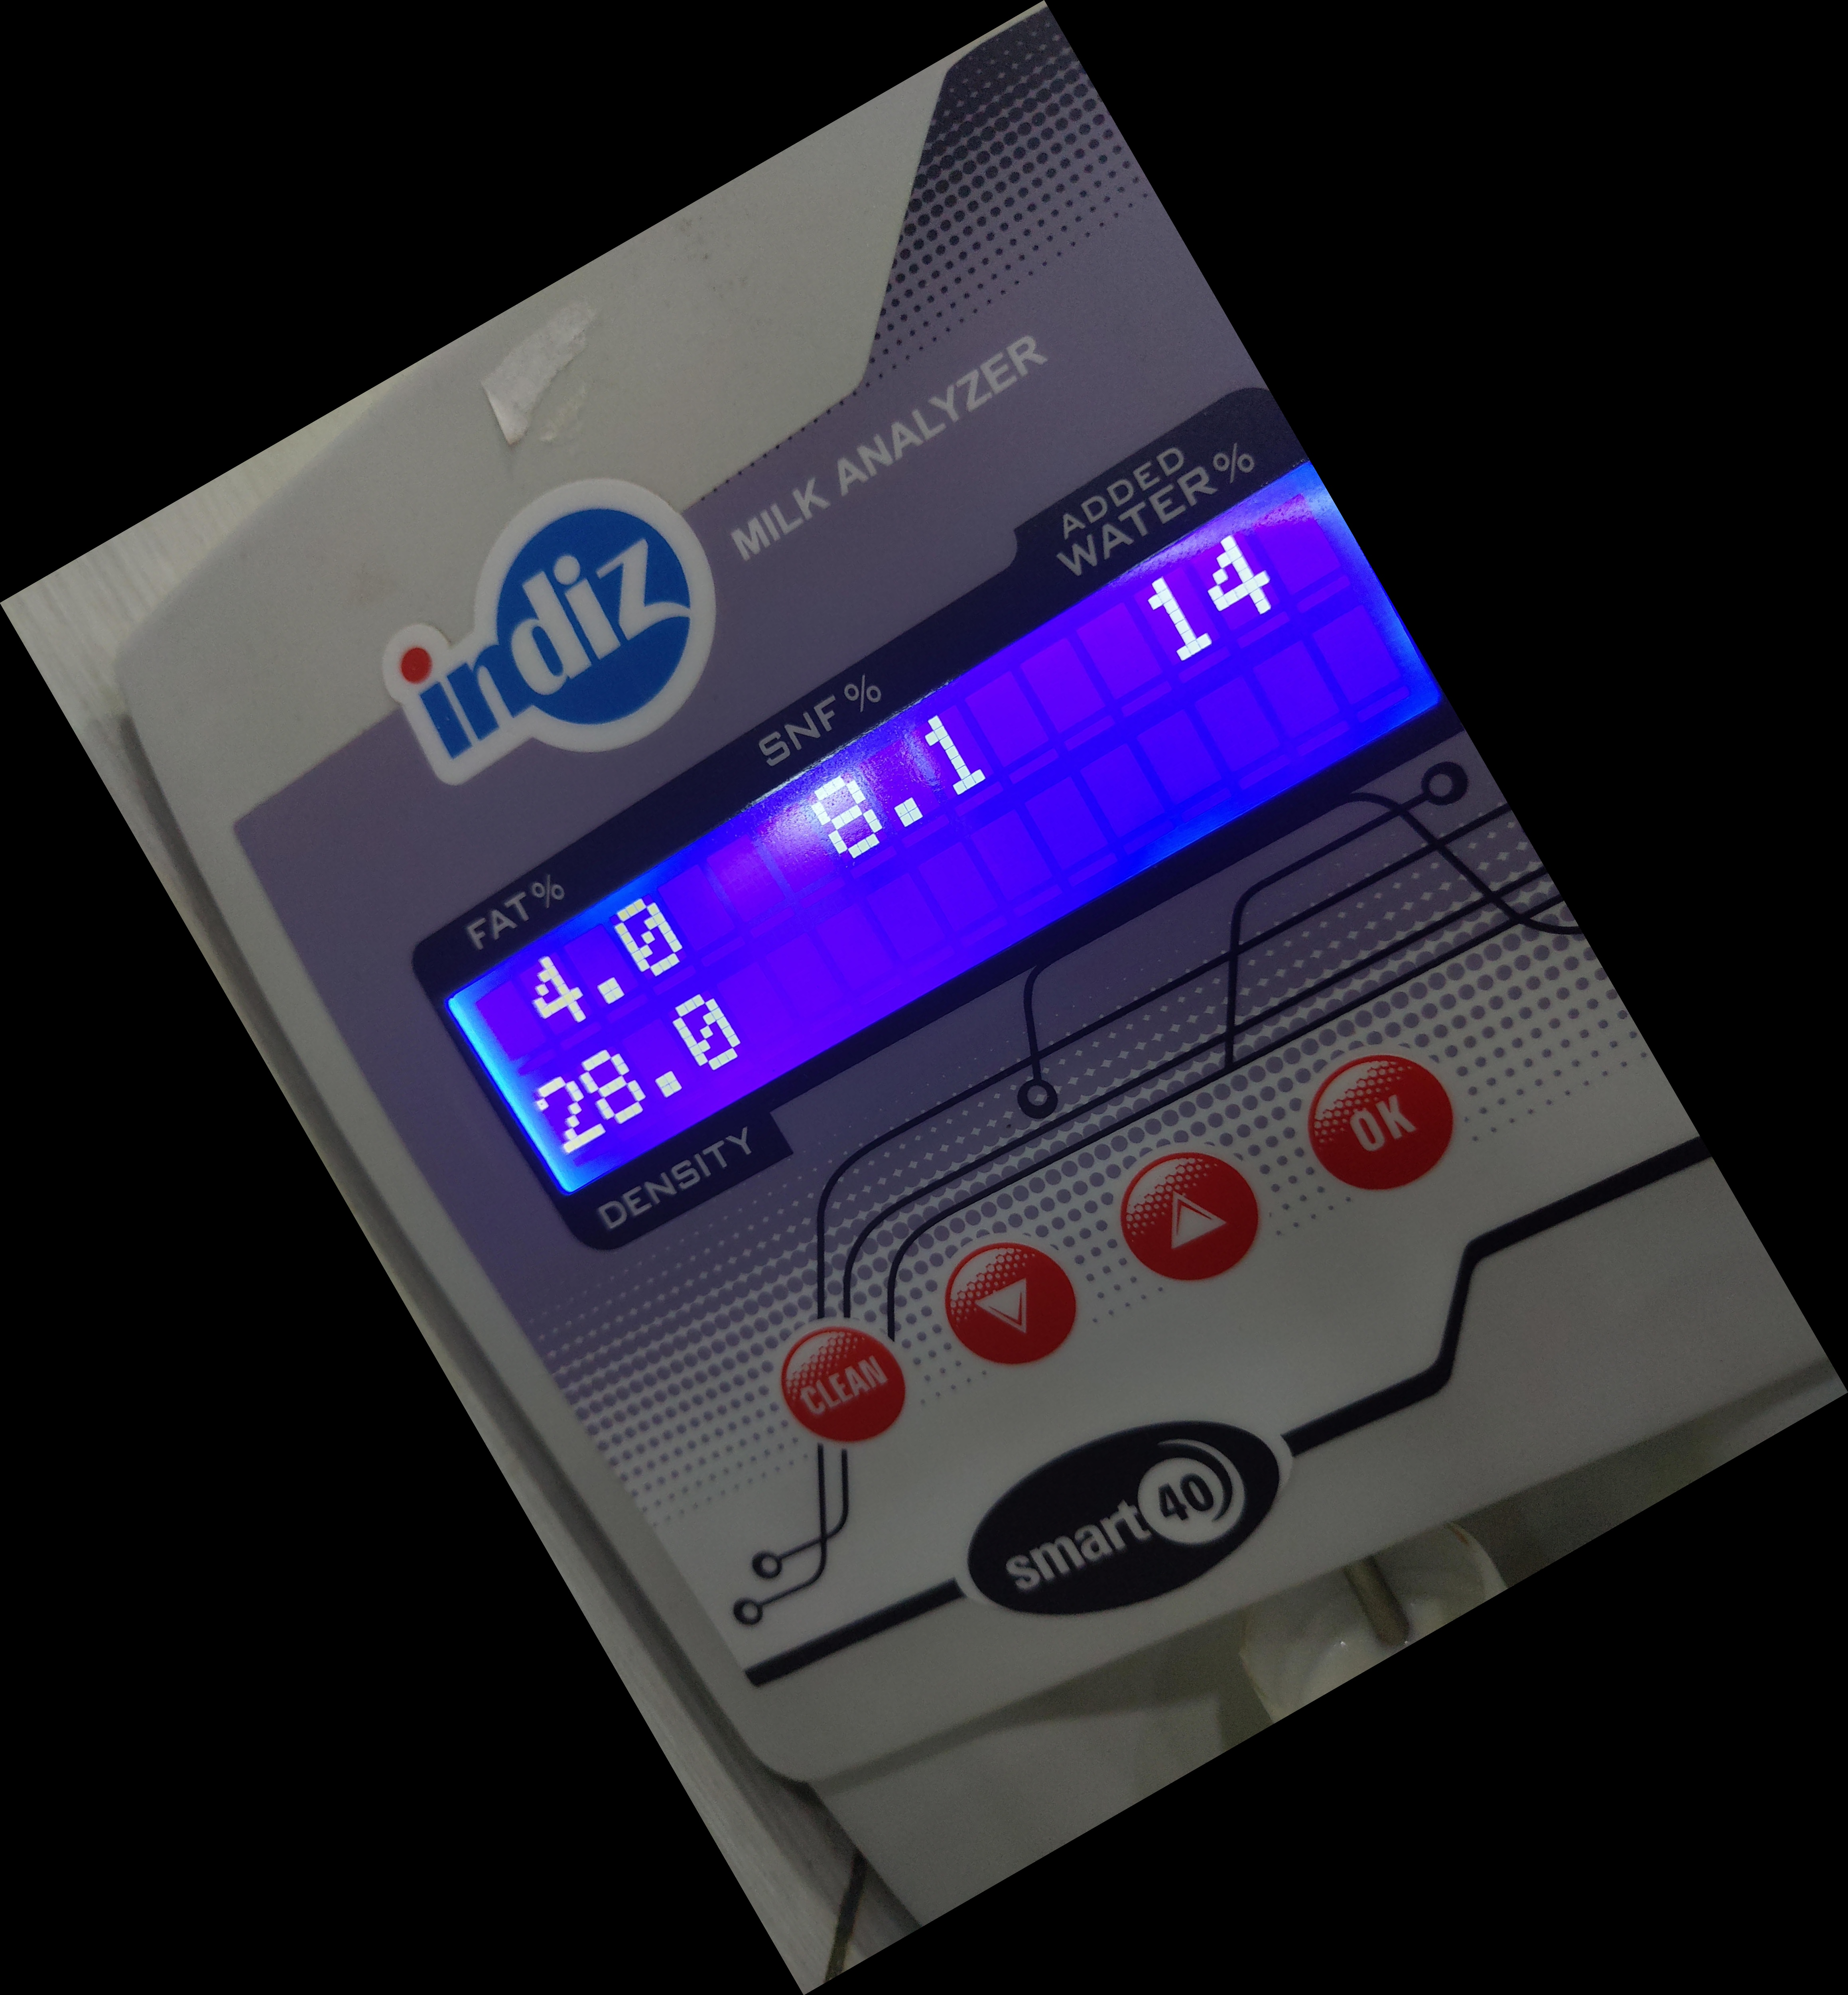lcd: (447, 415, 1483, 1213)
